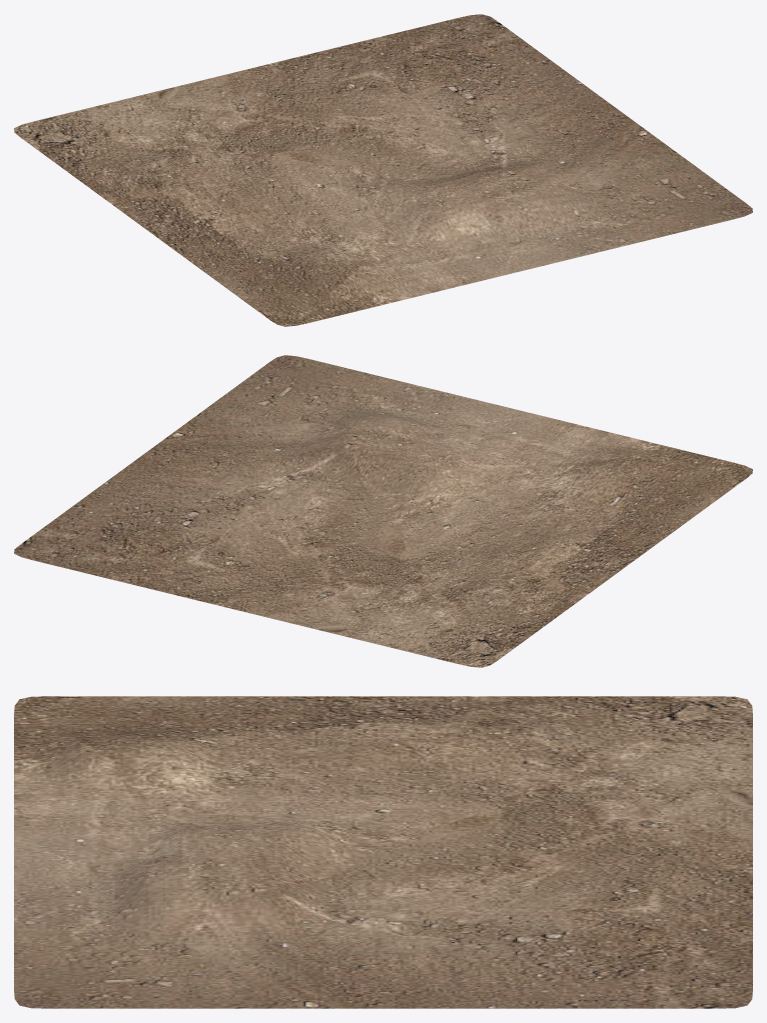
File: Parque_02.fbx
The picture shows the model from 3 angles, top to bottom: view 1: azimuth 30°, elevation 25°; view 2: azimuth 150°, elevation 25°; view 3: azimuth 270°, elevation 25°; orthographic projection. The views are drawn at different scales.
Visible parts, largest first — view 1: Plane.003; view 2: Plane.003; view 3: Plane.003.
Part boxes in pixels (left/top/right/bottom): Plane.003: left=14, top=14, right=752, bottom=326; Plane.003: left=14, top=355, right=752, bottom=667; Plane.003: left=14, top=696, right=752, bottom=1008.
Bounding box in the file's own units: 600 × 14.47 × 600.
